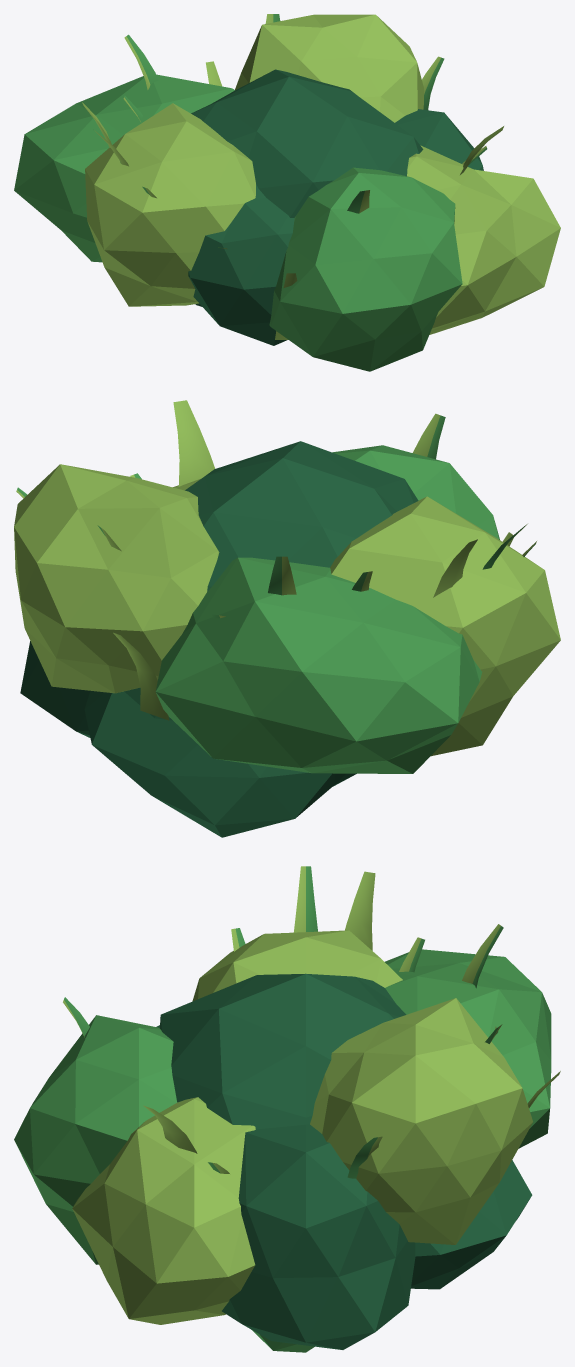
Rendered from plant_bush.glb.
3 views of the same model, one above another, from view 1: azimuth 30°, elevation 25°; view 2: azimuth 150°, elevation 25°; view 3: azimuth 270°, elevation 25° (orthographic). The views are drawn at different scales.
Visible parts, largest first — view 1: Bush leaf mass.001; view 2: Bush leaf mass.001; view 3: Bush leaf mass.001.
Boxes of the visible parts, x1,y1,x2,y2 form: Bush leaf mass.001: (14,14,560,371); Bush leaf mass.001: (14,400,560,837); Bush leaf mass.001: (14,866,560,1352).
Size of the model in its own units: 1.77 by 1.12 by 1.68.
